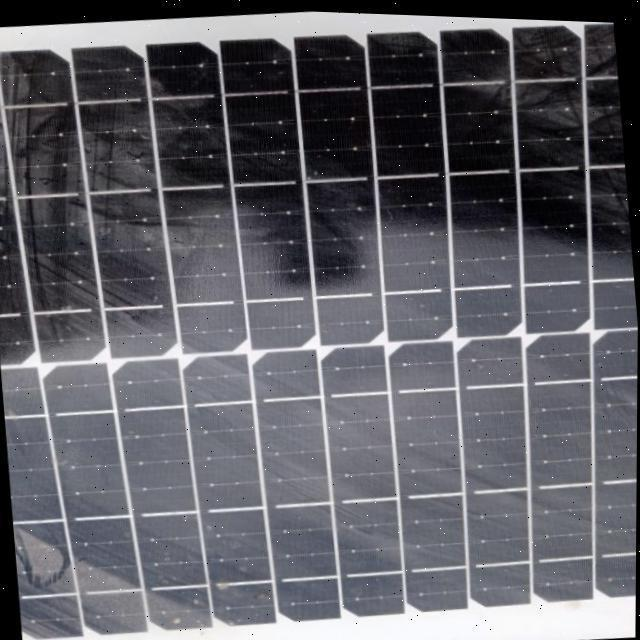Surface Contaminant: (0, 12, 358, 639)
